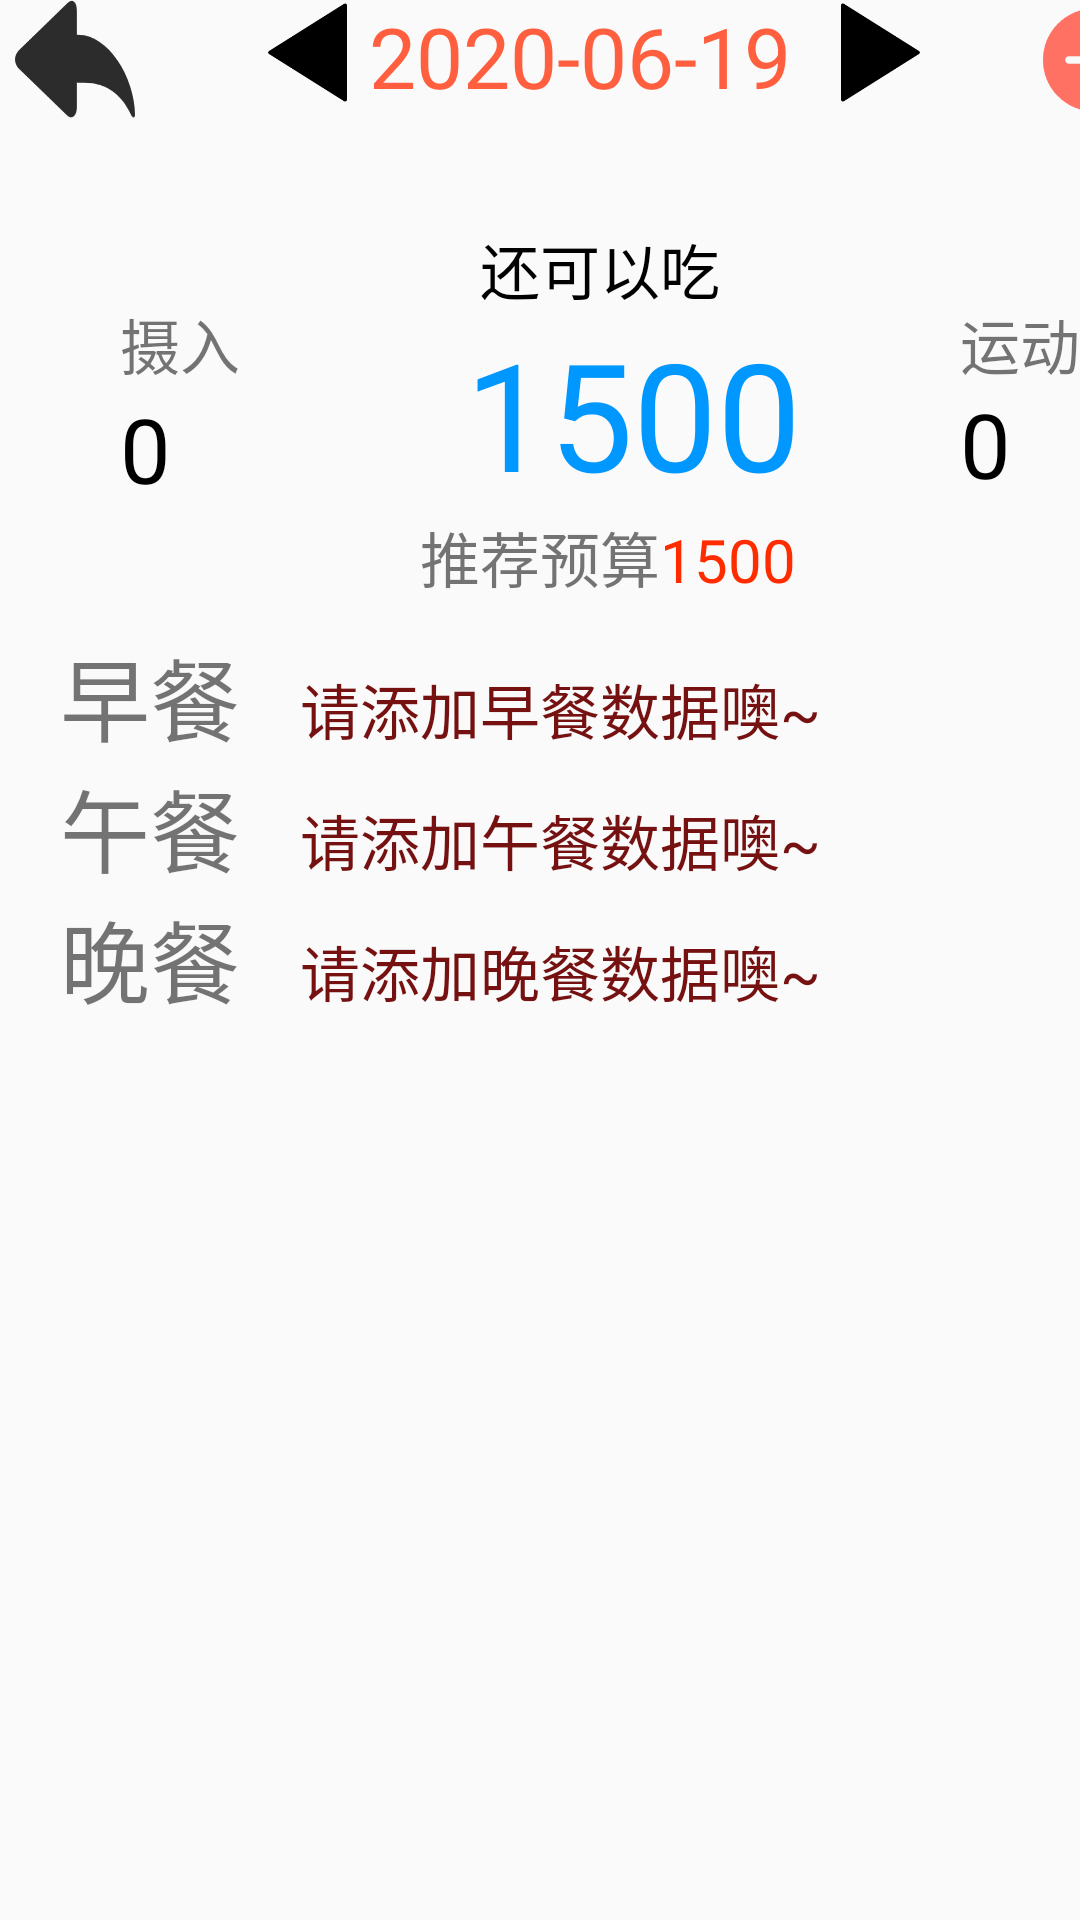

Screen size 1080px×1920px. Icon name, then its box in pixels as (x1, y1, x2, y2):
day back: (268, 3, 347, 102)
day forward: (841, 3, 920, 102)
showfood back: (15, 1, 135, 118)
